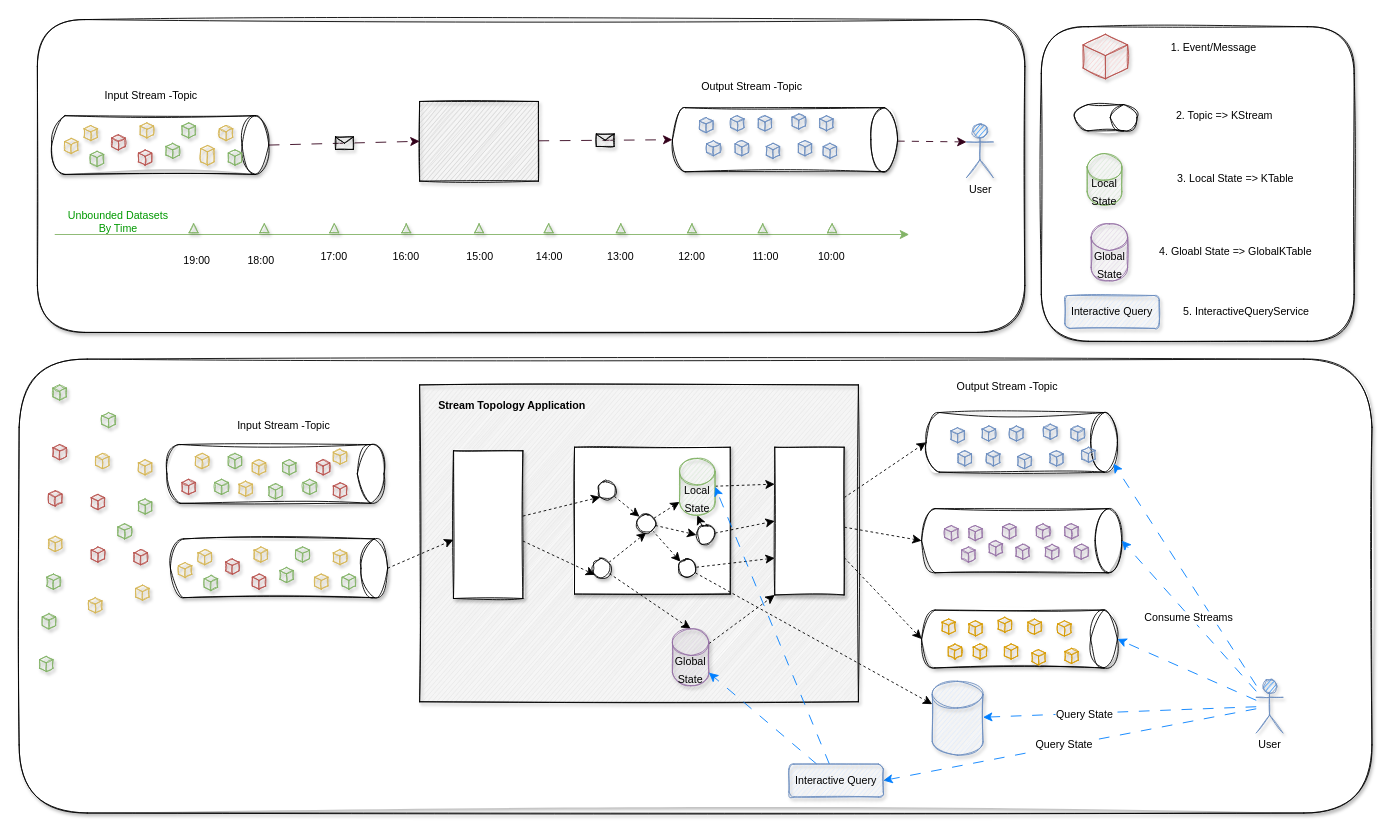
This 1393x835 diagram has some shape labels left out. Each missing label, with the centre of its shape:
"Consumer 1 x N" goes at pixel 488 525.
"External Storage" goes at pixel 958 719.
"Producer 1 x N" goes at pixel 810 522.
"Streams Application （Kafka Stream API)" goes at pixel 479 142.
